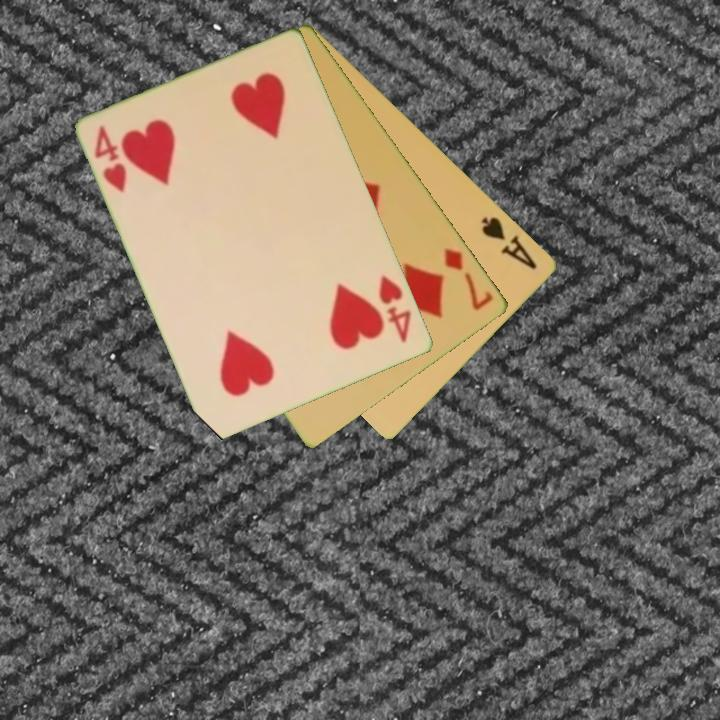4h: (375, 272, 415, 347), (91, 122, 131, 196)
7d: (441, 244, 497, 314)
As: (478, 212, 540, 273)
